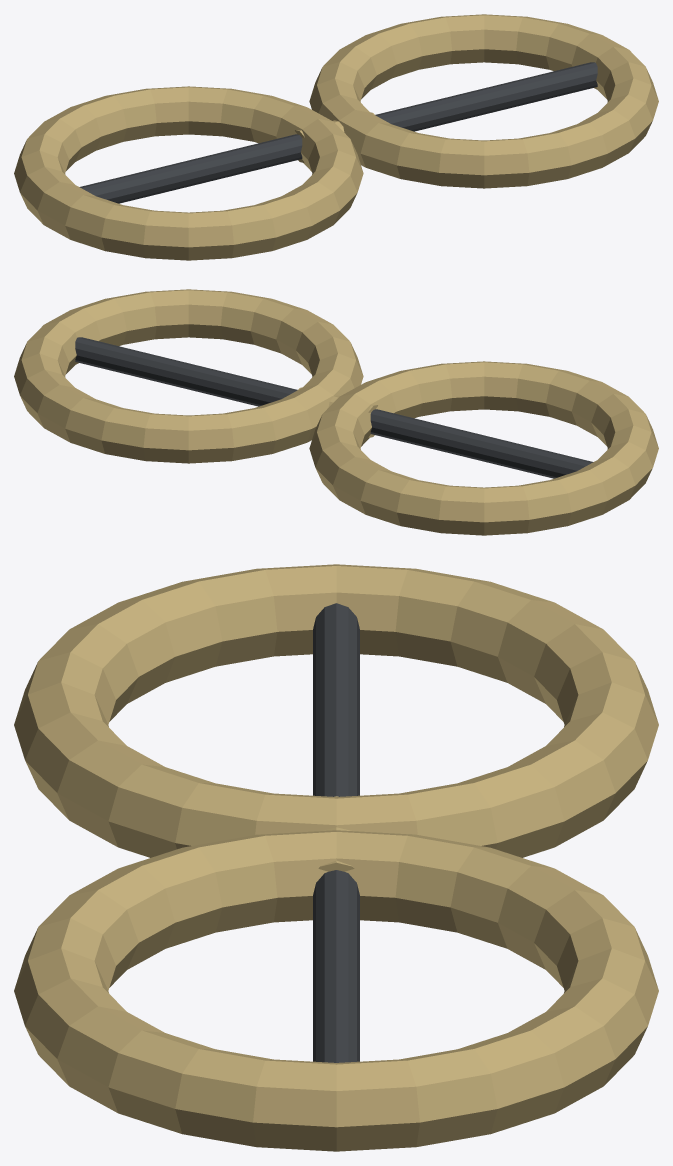
The picture shows the model from 3 angles, top to bottom: view 1: azimuth 30°, elevation 25°; view 2: azimuth 150°, elevation 25°; view 3: azimuth 270°, elevation 25°; orthographic projection. The views are drawn at different scales.
Visible parts, largest first — view 1: geometry_0; view 2: geometry_0; view 3: geometry_0.
Part boxes in pixels (x1,y1,x2,y2): geometry_0: (14,14,658,260); geometry_0: (14,289,658,535); geometry_0: (14,564,658,1151).
Size of the model in its own units: 0.162 by 0.012 by 0.082.
